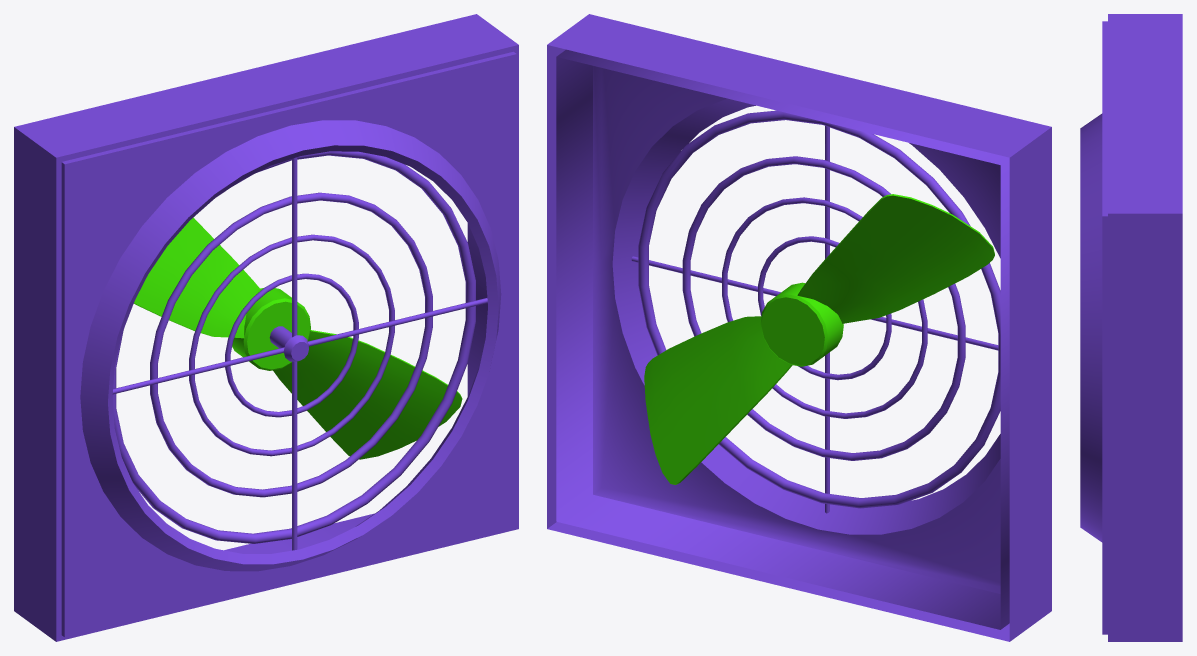
File: Ventilator.fbx
The picture shows the model from 3 angles, left to right: view 1: azimuth 30°, elevation 25°; view 2: azimuth 150°, elevation 25°; view 3: azimuth 270°, elevation 25°; orthographic projection. The views are drawn at different scales.
Visible parts, largest first — view 1: Fanframe.001, Fan.001; view 2: Fanframe.001, Fan.001; view 3: Fanframe.001.
Boxes of the visible parts, <box> form: Fanframe.001: <box>14,14,518,641</box>; Fan.001: <box>134,217,462,459</box>; Fanframe.001: <box>547,14,1051,641</box>; Fan.001: <box>644,194,994,484</box>; Fanframe.001: <box>1080,14,1182,641</box>.
Bounding box in the file's own units: 1.86 × 1.86 × 0.4036.
